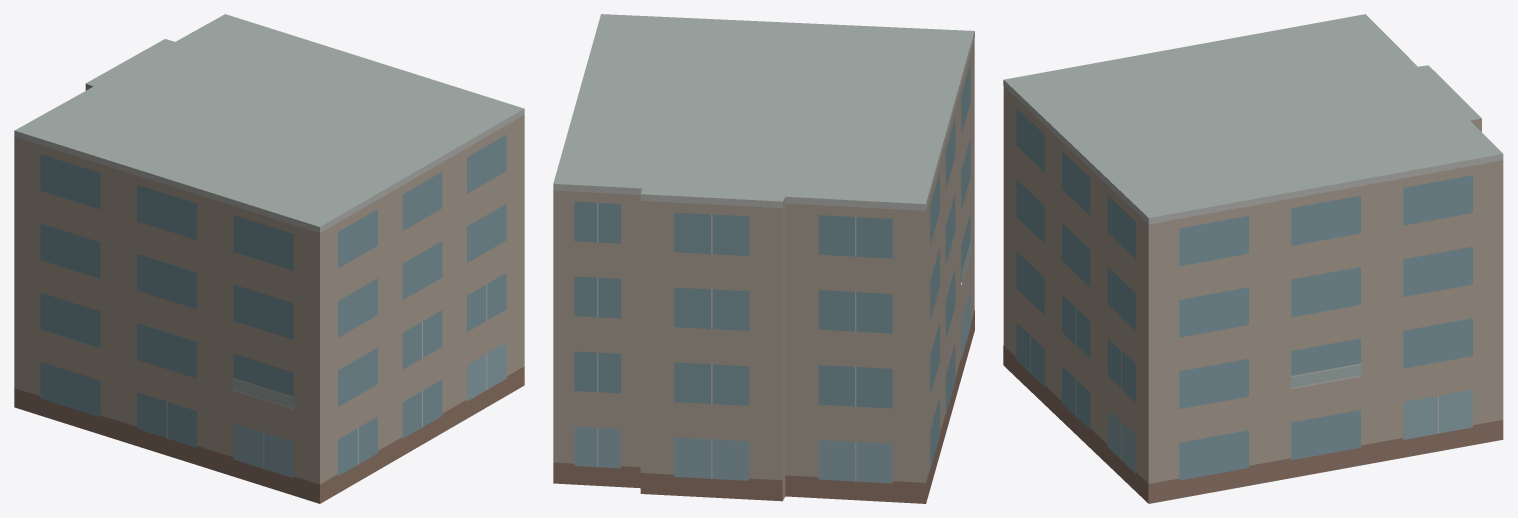
Rendered from survey-upis-32601463.glb.
The picture shows the model from 3 angles, left to right: view 1: azimuth 30°, elevation 25°; view 2: azimuth 150°, elevation 25°; view 3: azimuth 270°, elevation 25°; orthographic projection. The views are drawn at different scales.
Parts seen in each view (by area): view 1: survey-upis-32601463.tmp; view 2: survey-upis-32601463.tmp; view 3: survey-upis-32601463.tmp.
Part boxes in pixels (box(x1,y1,x2,y2)): survey-upis-32601463.tmp: box(14, 14, 524, 503); survey-upis-32601463.tmp: box(553, 14, 974, 503); survey-upis-32601463.tmp: box(1003, 14, 1503, 503).
Bounding box in the file's own units: 16.86 × 11 × 17.44.
